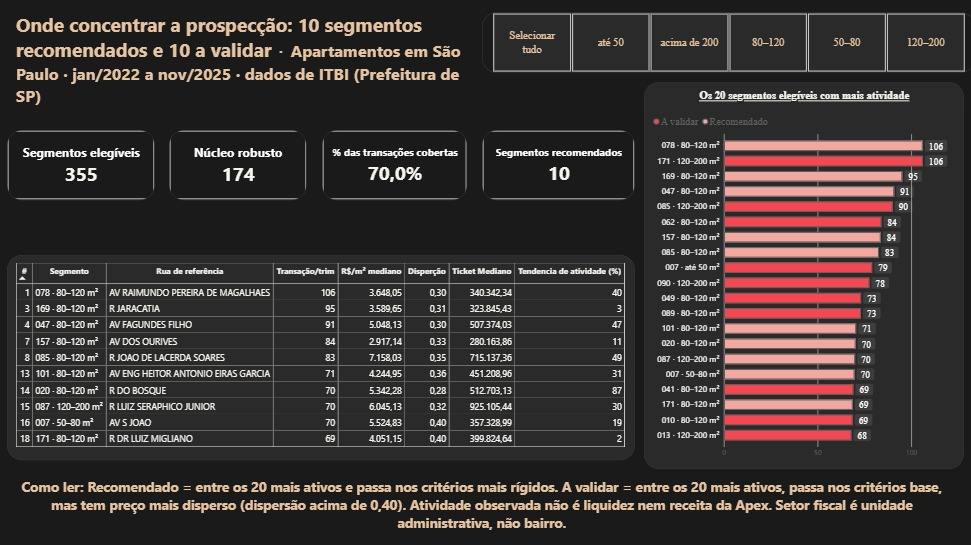

The dashboard page shown, as its layout file describes it:
{"tool":"powerbi","page":{"name":"Priorização ","canvas":[1920,1080],"ordinal":0},"visuals":[{"type":"cardVisual","fields":{"Data":["analytics res_segmentos.Segmentos elegíveis"]},"box":[20,260,290,137.5],"z":0},{"type":"cardVisual","fields":{"Data":["analytics res_segmentos.Núcleo robusto"]},"box":[337.5,260,270,137.5],"z":1},{"type":"cardVisual","fields":{"Data":["analytics res_segmentos.% das transações cobertas"]},"box":[637.5,260,285,137.5],"z":2},{"type":"cardVisual","fields":{"Data":["analytics res_segmentos.Segmentos recomendados"]},"box":[952.5,260,300,137.5],"z":3},{"type":"barChart","title":"Os 20 segmentos elegíveis com mais atividade","fields":{"Category":["analytics res_segmentos.segmento"],"Series":["analytics res_segmentos.grupo"],"Y":["Avg(analytics res_segmentos.transacoes_por_trimestre)"]},"box":[1270,165,627.5,760],"z":4},{"type":"slicer","fields":{"Values":["analytics res_segmentos.faixa_area"]},"box":[952.5,27.5,967.5,120],"z":5},{"type":"tableEx","fields":{"Values":["Sum(analytics res_segmentos.posicao_ranking)","analytics res_segmentos.segmento","analytics res_segmentos.rua_referencia","Sum(analytics res_segmentos.transacoes_por_trimestre)","Sum(analytics res_segmentos.preco_mediano)","Sum(analytics res_segmentos.dispersao)","Sum(analytics res_segmentos.ticket_mediano)","Sum(analytics res_segmentos.tendencia_atividade)"]},"box":[20,505,1232.5,402.5],"z":6},{"type":"textbox","box":[37.5,27.5,915,200],"z":7},{"type":"textbox","box":[37.5,941.1,1829.4,112.4],"z":8}]}

Visuals, with their boxes in screenshot pixels (x1, y1, x2, y2), scaled from the page's 1920x1080 canvas onto the 971x545 screenshot:
cardVisual - analytics res_segmentos.Segmentos elegíveis: bbox=[10, 131, 157, 201]
cardVisual - analytics res_segmentos.Núcleo robusto: bbox=[171, 131, 307, 201]
cardVisual - analytics res_segmentos.% das transações cobertas: bbox=[322, 131, 467, 201]
cardVisual - analytics res_segmentos.Segmentos recomendados: bbox=[482, 131, 633, 201]
"Os 20 segmentos elegíveis com mais atividade" barChart: bbox=[642, 83, 960, 467]
slicer - analytics res_segmentos.faixa_area: bbox=[482, 14, 970, 74]
tableEx - Sum(analytics res_segmentos.posicao_ranking) x analytics res_segmentos.segmento: bbox=[10, 255, 633, 458]
textbox: bbox=[19, 14, 482, 115]
textbox: bbox=[19, 475, 944, 532]
